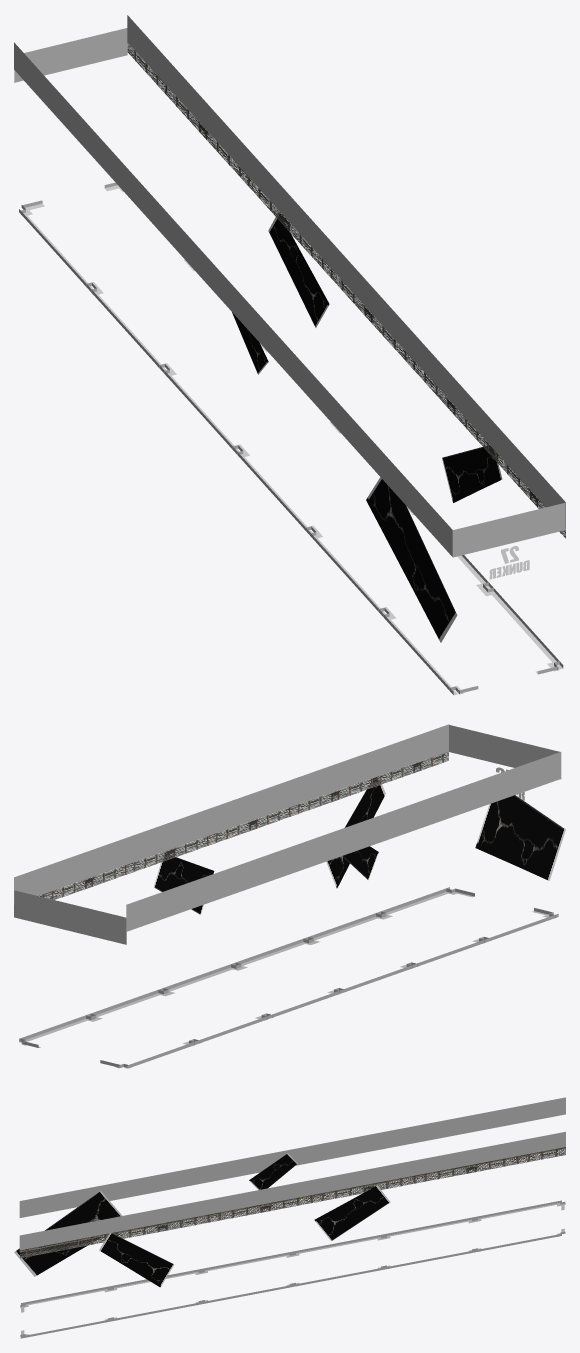
Rendered from R2_Decals.FBX.
3 views of the same model, one above another, from view 1: azimuth 30°, elevation 25°; view 2: azimuth 150°, elevation 25°; view 3: azimuth 270°, elevation 25° (orthographic). The views are drawn at different scales.
Visible parts, largest first — view 1: R2_Decal01, R2_Decal02; view 2: R2_Decal01, R2_Decal02; view 3: R2_Decal01, R2_Decal02.
Part boxes in pixels (<box>): R2_Decal01: <box>14,15,565,695</box>; R2_Decal02: <box>127,43,565,579</box>; R2_Decal01: <box>14,724,565,1068</box>; R2_Decal02: <box>14,751,524,913</box>; R2_Decal01: <box>14,1097,565,1338</box>; R2_Decal02: <box>20,1147,565,1258</box>.
Bounding box in the file's own units: 263 × 740 × 1783.
